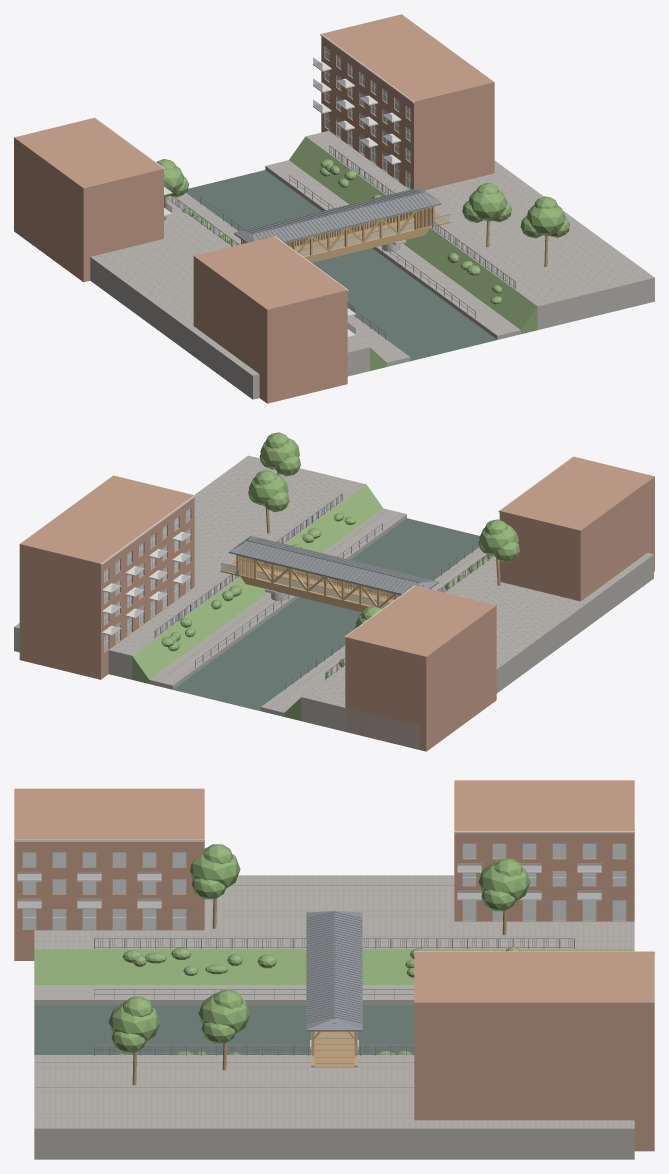
File: clay-timber-covered-footbridge-clay-v001.glb
3 renders of one model, top to bottom at view 1: azimuth 30°, elevation 25°; view 2: azimuth 150°, elevation 25°; view 3: azimuth 270°, elevation 25°, orthographic. The views are drawn at different scales.
Visible parts, largest first — view 1: CLAY_BRICK, CLAY_PAVING, CLAY_WATER, CLAY_PLANTING, CLAY_JOINT, CLAY_ROOF, CLAY_TRIM, CLAY_TREE, CLAY_GLASS, CLAY_GLULAM, CLAY_HARDWARE, CLAY_DECK (+2 smaller); view 2: CLAY_BRICK, CLAY_PAVING, CLAY_WATER, CLAY_PLANTING, CLAY_TREE, CLAY_JOINT, CLAY_ROOF, CLAY_TRIM, CLAY_GLASS, CLAY_GLULAM, CLAY_HARDWARE, CLAY_DECK (+2 smaller); view 3: CLAY_BRICK, CLAY_PAVING, CLAY_JOINT, CLAY_PLANTING, CLAY_WATER, CLAY_TRIM, CLAY_GLASS, CLAY_TREE, CLAY_ROOF, CLAY_HARDWARE, CLAY_SEAM, CLAY_DECK.
Part boxes in pixels (x1,y1,x2,y2): CLAY_BRICK: [14, 14, 494, 403]; CLAY_PAVING: [90, 130, 654, 399]; CLAY_WATER: [186, 170, 496, 361]; CLAY_PLANTING: [182, 136, 537, 370]; CLAY_JOINT: [95, 132, 652, 372]; CLAY_ROOF: [234, 187, 441, 242]; CLAY_TRIM: [94, 34, 414, 337]; CLAY_TREE: [156, 159, 569, 239]; CLAY_GLASS: [164, 47, 449, 334]; CLAY_GLULAM: [241, 192, 450, 262]; CLAY_HARDWARE: [167, 145, 515, 339]; CLAY_DECK: [289, 211, 447, 255]; CLAY_BRICK: [19, 456, 654, 751]; CLAY_PAVING: [14, 455, 653, 749]; CLAY_WATER: [173, 518, 479, 710]; CLAY_PLANTING: [132, 484, 493, 720]; CLAY_TREE: [248, 432, 519, 628]; CLAY_JOINT: [16, 457, 649, 711]; CLAY_ROOF: [229, 536, 438, 594]; CLAY_TRIM: [100, 456, 573, 651]; CLAY_GLASS: [104, 509, 398, 651]; CLAY_GLULAM: [220, 541, 431, 612]; CLAY_HARDWARE: [154, 493, 493, 689]; CLAY_DECK: [223, 560, 393, 608]; CLAY_BRICK: [14, 780, 654, 1151]; CLAY_PAVING: [34, 875, 634, 1159]; CLAY_JOINT: [15, 871, 633, 1128]; CLAY_PLANTING: [34, 946, 634, 1054]; CLAY_WATER: [34, 1005, 414, 1054]; CLAY_TRIM: [14, 831, 654, 953]; CLAY_GLASS: [17, 843, 626, 928]; CLAY_TREE: [108, 844, 530, 1052]; CLAY_ROOF: [306, 911, 362, 1031]; CLAY_HARDWARE: [94, 938, 574, 1056]; CLAY_SEAM: [306, 910, 362, 1023]; CLAY_DECK: [314, 1031, 354, 1067].
Bounding box in the file's own units: 61 × 16.4 × 64.1.
